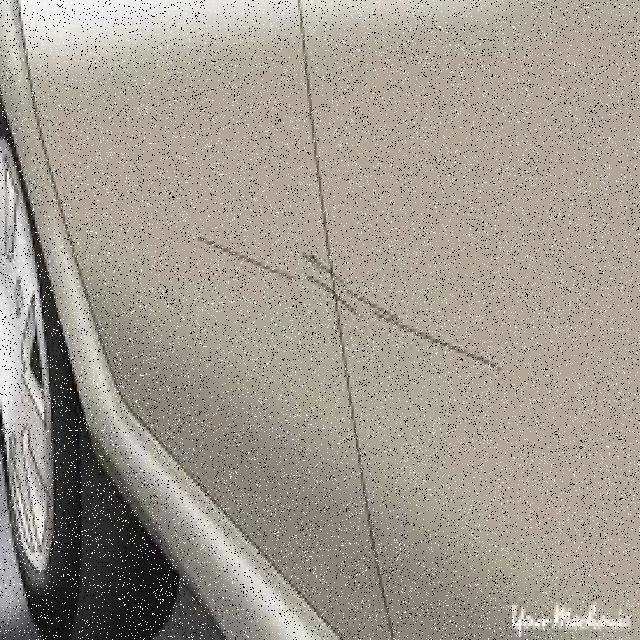fender: (305, 0, 638, 605), (37, 0, 307, 591)
